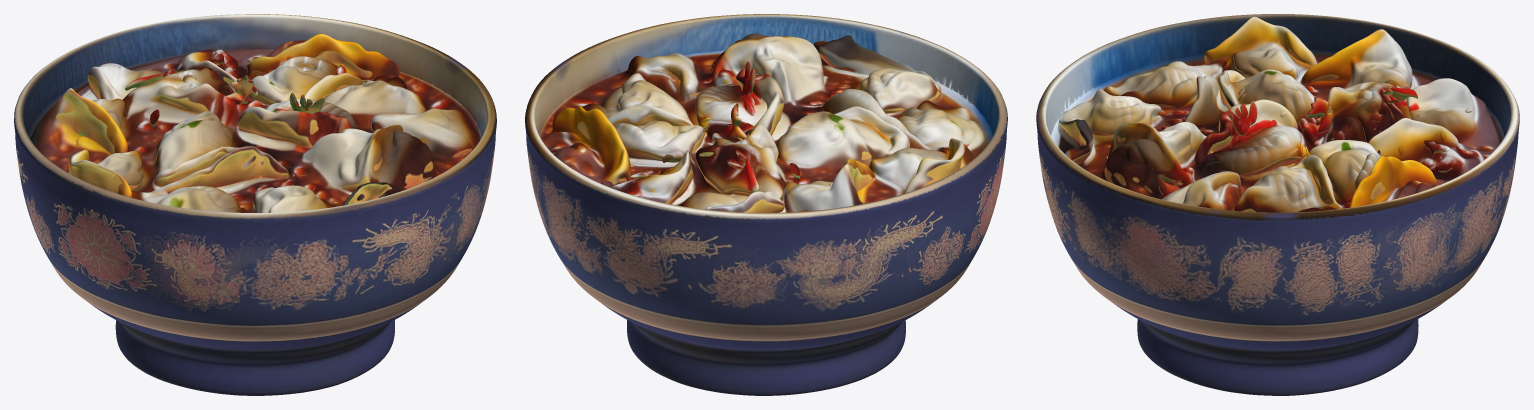
File: Edamame.glb
3 views of the same model, side by side, from view 1: azimuth 30°, elevation 25°; view 2: azimuth 150°, elevation 25°; view 3: azimuth 270°, elevation 25° (orthographic).
Visible parts, largest first — view 1: tripo_node_ba8594d1-811b-4239-b722-4c51da70e2ce; view 2: tripo_node_ba8594d1-811b-4239-b722-4c51da70e2ce; view 3: tripo_node_ba8594d1-811b-4239-b722-4c51da70e2ce.
Boxes of the visible parts, x1=… form: tripo_node_ba8594d1-811b-4239-b722-4c51da70e2ce: x1=14, y1=14, x2=496, y2=395; tripo_node_ba8594d1-811b-4239-b722-4c51da70e2ce: x1=525, y1=14, x2=1007, y2=395; tripo_node_ba8594d1-811b-4239-b722-4c51da70e2ce: x1=1036, y1=14, x2=1519, y2=395.
Bounding box in the file's own units: 0.2935 × 0.1672 × 0.2938.
Materials: 1 (1 with a texture image).
